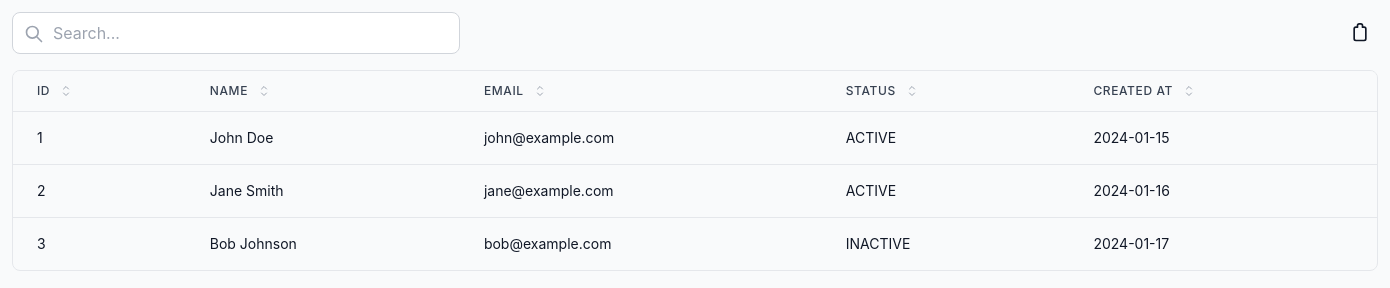
Test: DataTable › should toggle column visibility
Note: Click column visibility button
Click the button titled "Column visibility": x=1360, y=33 1342,15 -> 1378,51
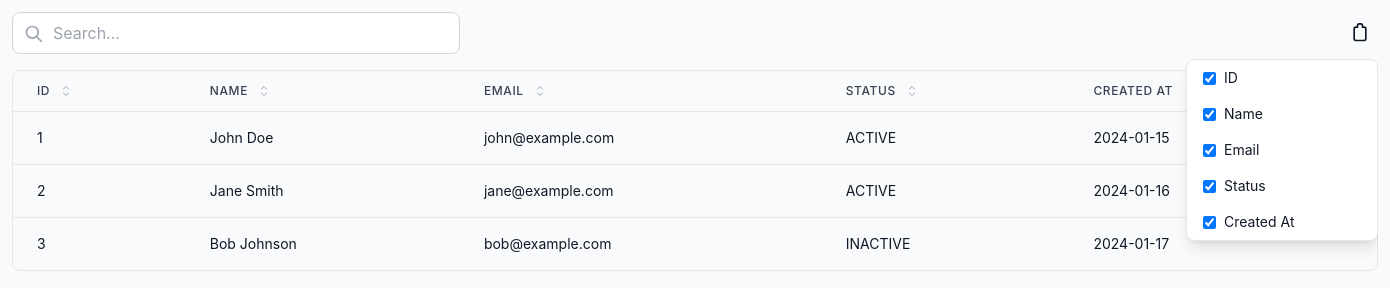
Result: the checkbox labelled "Email" is shown at 1203,144 -> 1216,156
